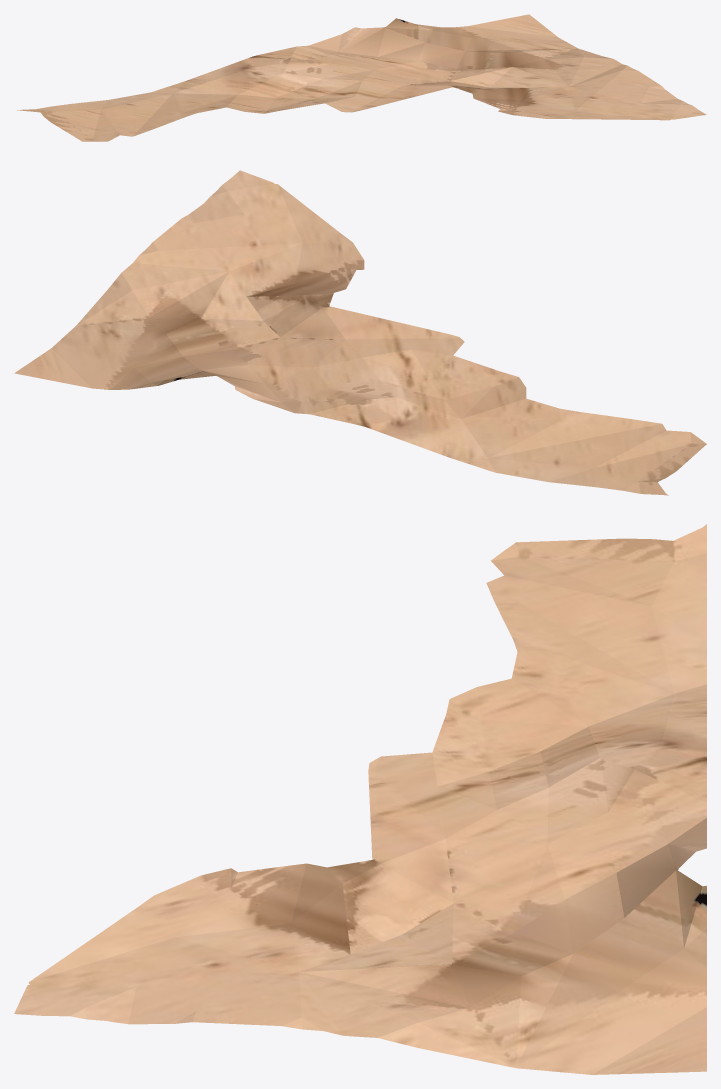
3 views of the same model, one above another, from view 1: azimuth 30°, elevation 25°; view 2: azimuth 150°, elevation 25°; view 3: azimuth 270°, elevation 25° (orthographic). The views are drawn at different scales.
Bounding box in the file's own units: 0.8288 × 0.0481 × 0.4953.
Materials: 1 (1 with a texture image).
